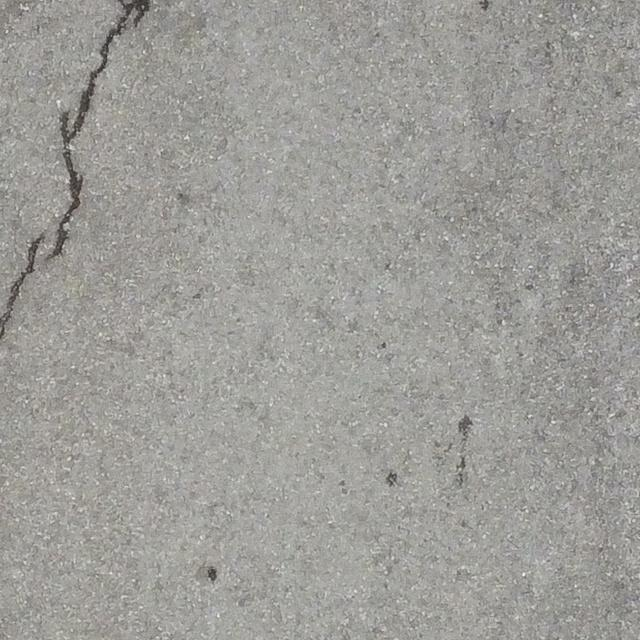LongitudinalCrack: (1, 1, 150, 341)
